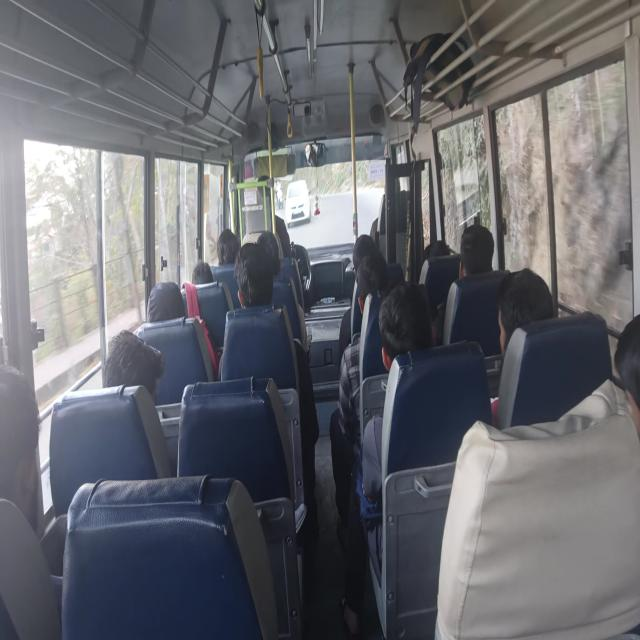person: (434, 313, 639, 638), (339, 280, 434, 635), (218, 241, 319, 537), (0, 364, 66, 637), (330, 251, 390, 537), (102, 328, 174, 476), (426, 224, 495, 344), (0, 366, 43, 536), (496, 266, 555, 358), (338, 234, 376, 364), (103, 328, 164, 402), (613, 312, 639, 438), (233, 242, 274, 308), (458, 224, 494, 278), (146, 280, 186, 322), (352, 234, 376, 282), (256, 230, 280, 275), (216, 228, 240, 265), (191, 260, 213, 285)
